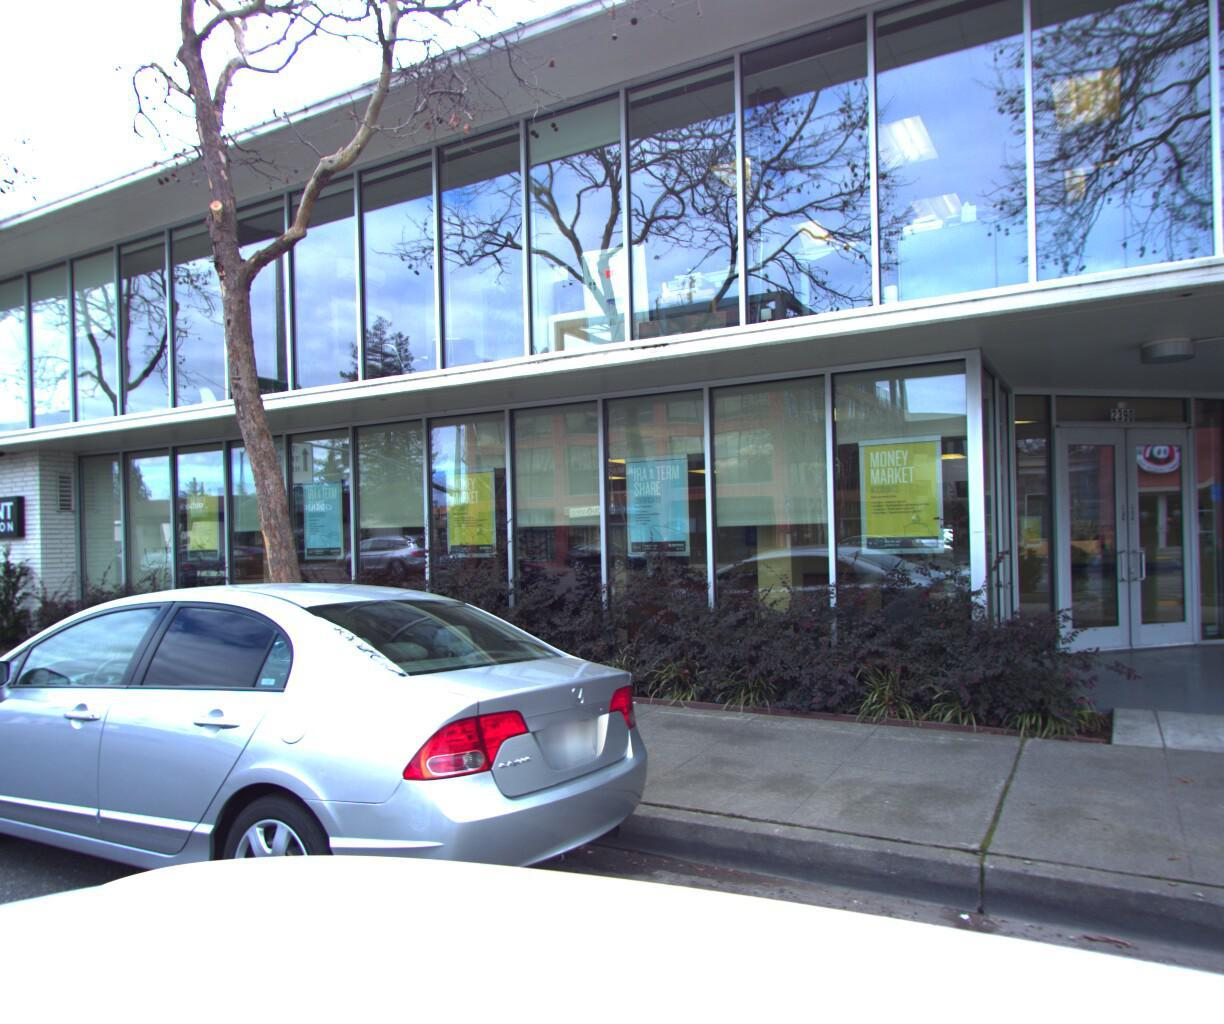car: (0, 563, 703, 1024)
